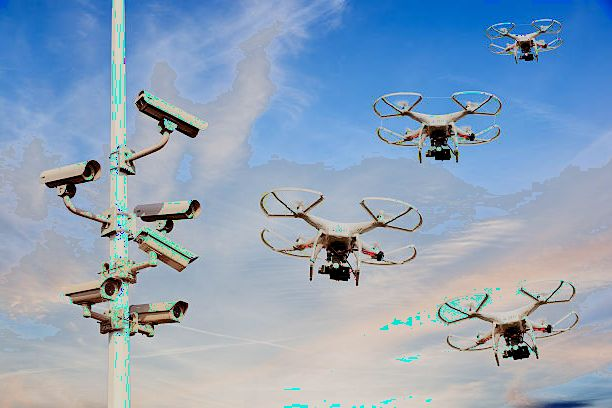Drone: (254, 186, 421, 286), (437, 276, 579, 367), (366, 90, 502, 169), (484, 17, 564, 69)
